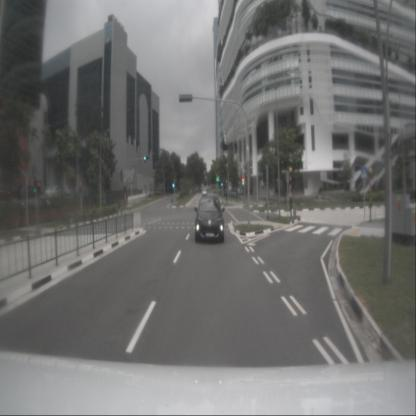vehicle-car: (194, 195, 225, 244), (202, 188, 208, 198)
